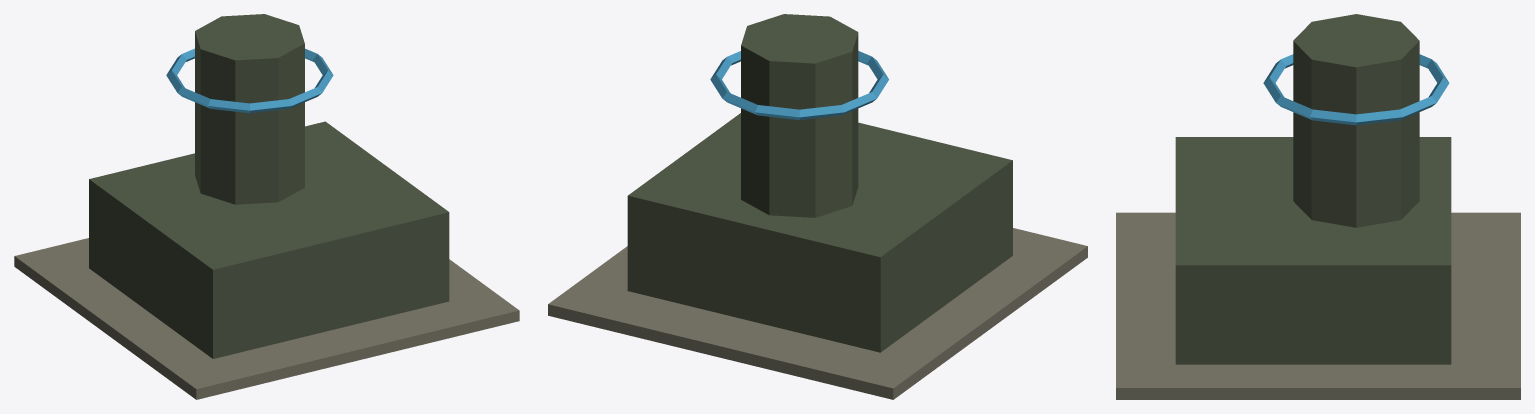
The model's file is Bastion_TechCenter_LOD1.obj.
The picture shows the model from 3 angles, left to right: view 1: azimuth 30°, elevation 25°; view 2: azimuth 150°, elevation 25°; view 3: azimuth 270°, elevation 25°; orthographic projection. The views are drawn at different scales.
Visible parts, largest first — view 1: Bastion_TechCenter_LOD1; view 2: Bastion_TechCenter_LOD1; view 3: Bastion_TechCenter_LOD1.
Boxes of the visible parts, left/top/right/bottom form: Bastion_TechCenter_LOD1: left=14, top=14, right=519, bottom=399; Bastion_TechCenter_LOD1: left=548, top=14, right=1087, bottom=399; Bastion_TechCenter_LOD1: left=1116, top=14, right=1520, bottom=399.
Size of the model in its own units: 8.2 by 5.93 by 8.
Materials: 1 (1 with a texture image).
